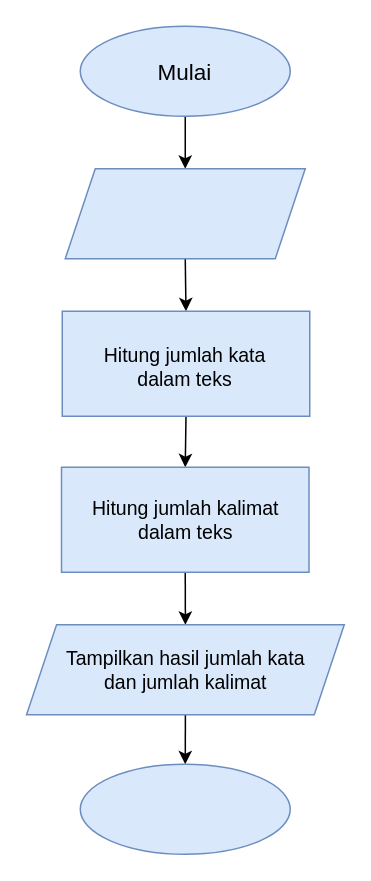
Some shapes in this 371 by 881 pixel diagram are drawn without their labels. Here are the shapes that lost their labels. From the top down, the centre of each, then its label:
(x=184, y=213): Input teks
(x=184, y=808): Selesai
